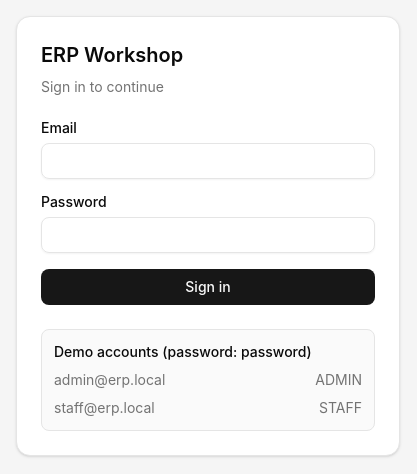
Test case: LoginPage › fills in a demo account
Click the text "staff@erp.local": click(104, 408) top-left (54, 398), bottom-right (155, 418)
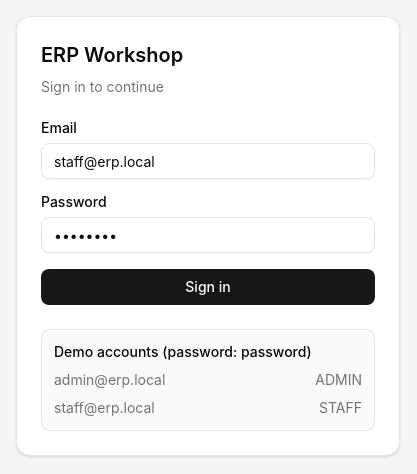
Now the field labelled "Email" holds "staff@erp.local", box top-left (41, 143), bottom-right (375, 179)
Now the password field labelled "Password" holds "password", box top-left (41, 217), bottom-right (375, 253)
